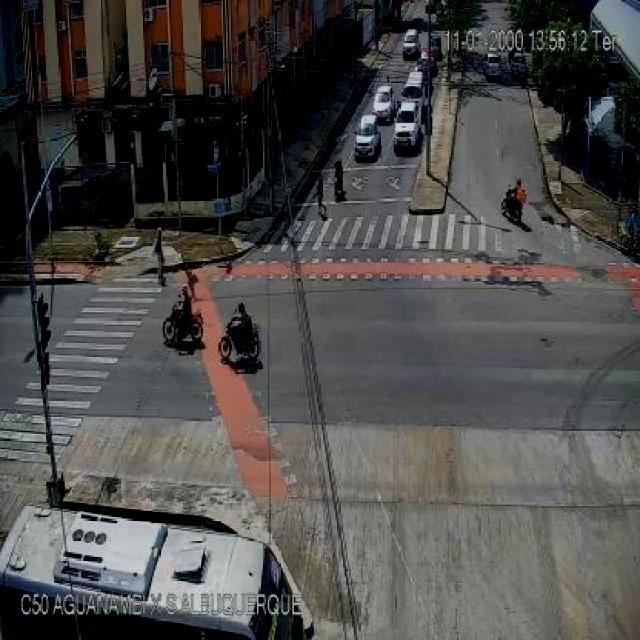Bus: (0, 502, 303, 640)
Car: (393, 102, 421, 150), (354, 115, 382, 156), (372, 85, 396, 122), (481, 52, 503, 81), (509, 53, 528, 84), (402, 29, 420, 59)
Cycle: (159, 301, 205, 345), (214, 320, 264, 360)
